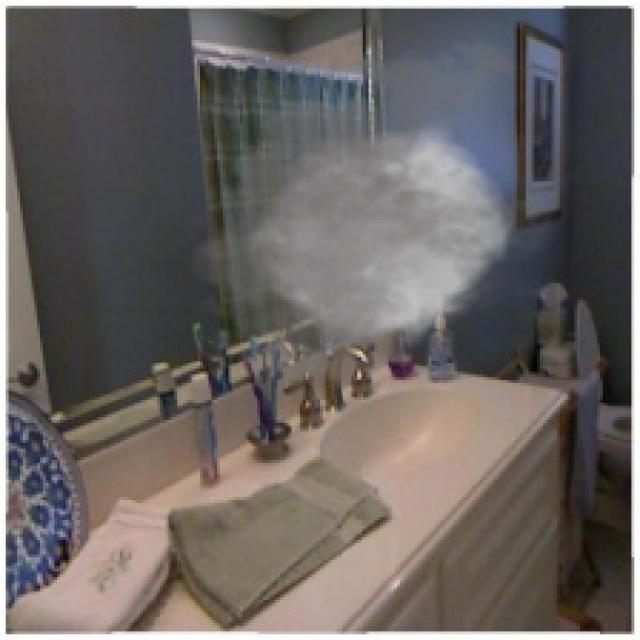smoke: (177, 29, 583, 397)
